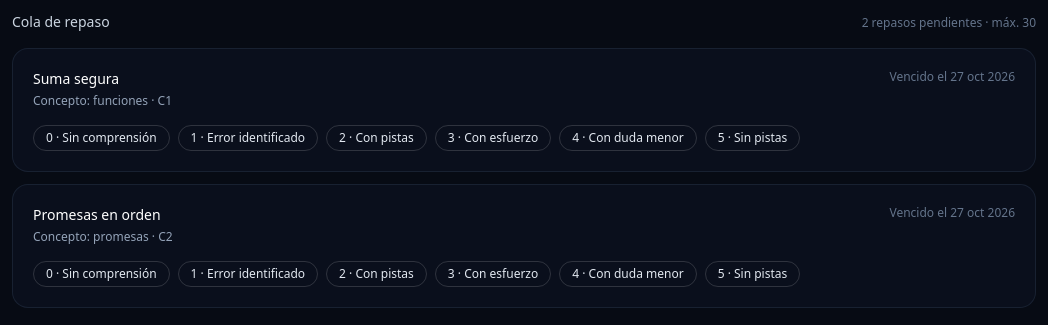
Test: ReviewQueue › registra la calidad, anuncia el intervalo y retira el ítem
Check: the text "Suma segura" is shown, box [33,69,119,88]
Click the button with aria-label "Calidad 4: Con duda menor": (628, 138) [559,125,697,151]
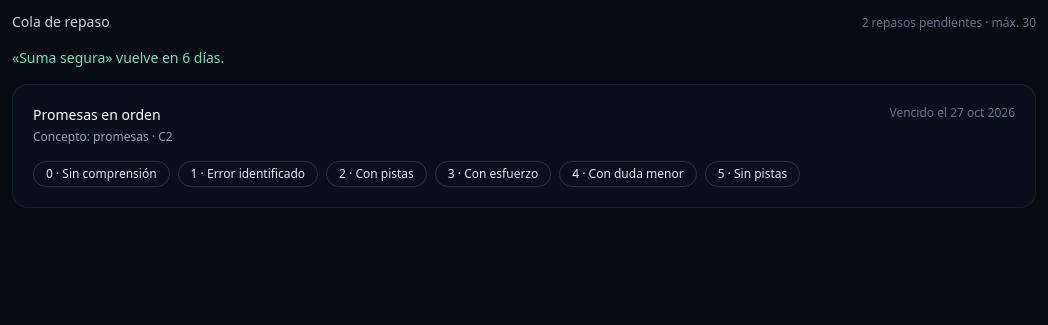
Check: the text "Promesas en orden" is shown, box [33,105,173,125]
Check: the text "«Suma segura» vuelve en 6 días." is shown, box [12,48,224,67]
